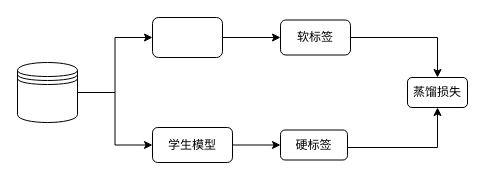
Some shapes in this 485 by 180 pixel diagram are drawn without their labels. The shapes that lost their labels are listed below. From the top down, each one's centre as x and y in pixels, then its label:
point 187,37: 教师模型
point 47,92: 数据源
